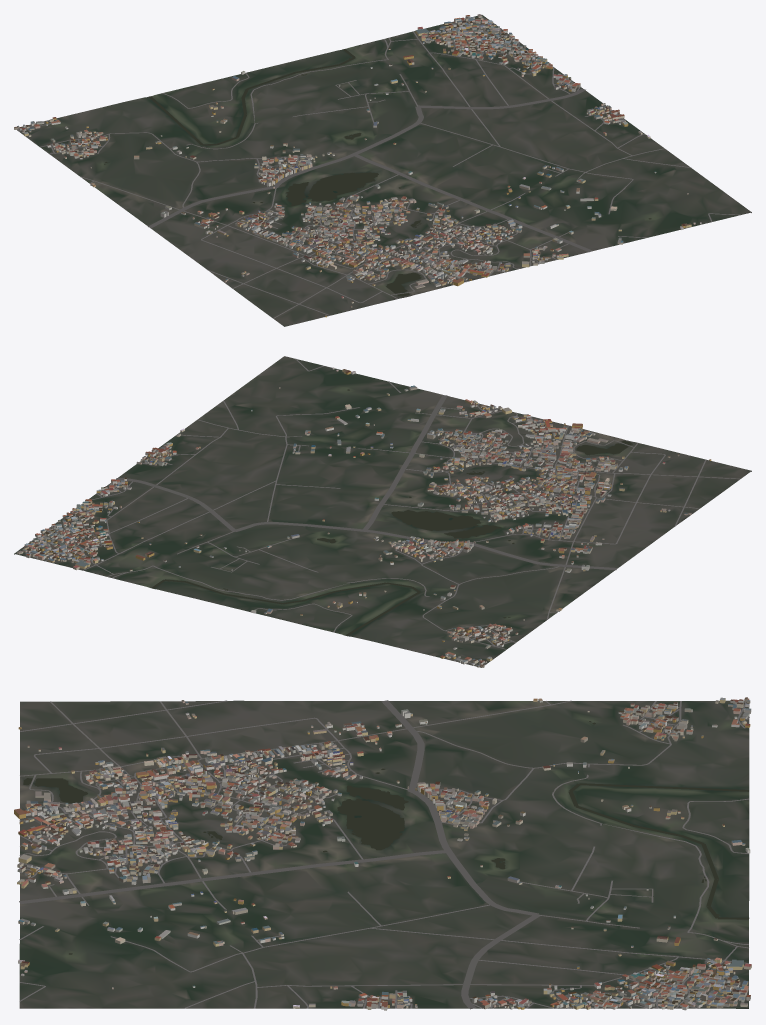
3 renders of one model, top to bottom at view 1: azimuth 30°, elevation 25°; view 2: azimuth 150°, elevation 25°; view 3: azimuth 270°, elevation 25°, orthographic. The views are drawn at different scales.
Visible parts, largest first — view 1: ground, buildings, roads, water; view 2: ground, buildings, roads, water; view 3: ground, buildings, roads, water.
Boxes of the visible parts, x1,y1,x2,y2 form: ground: (17,14,751,326); buildings: (14,14,701,317); roads: (18,22,740,318); water: (104,49,651,296); ground: (14,356,751,667); buildings: (17,367,711,667); roads: (41,358,740,665); water: (151,389,632,635); ground: (19,700,749,1008); buildings: (14,697,751,1010); roads: (19,700,749,1009); water: (23,721,749,954).
Bounding box in the file's own units: 1414 × 21.56 × 1419.
